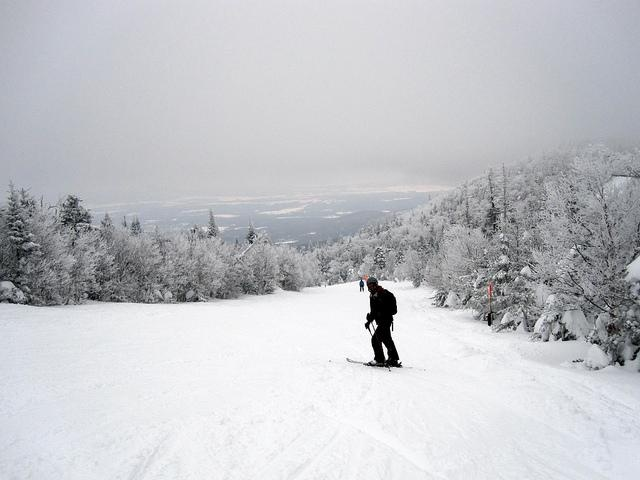person: (355, 273, 411, 369)
